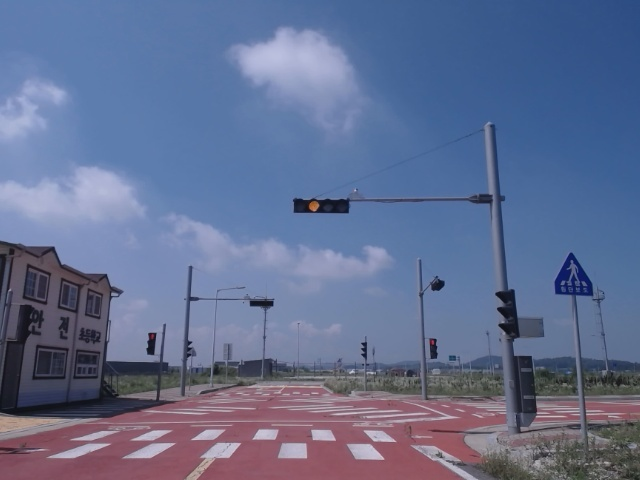orange_4: (294, 197, 349, 214)
